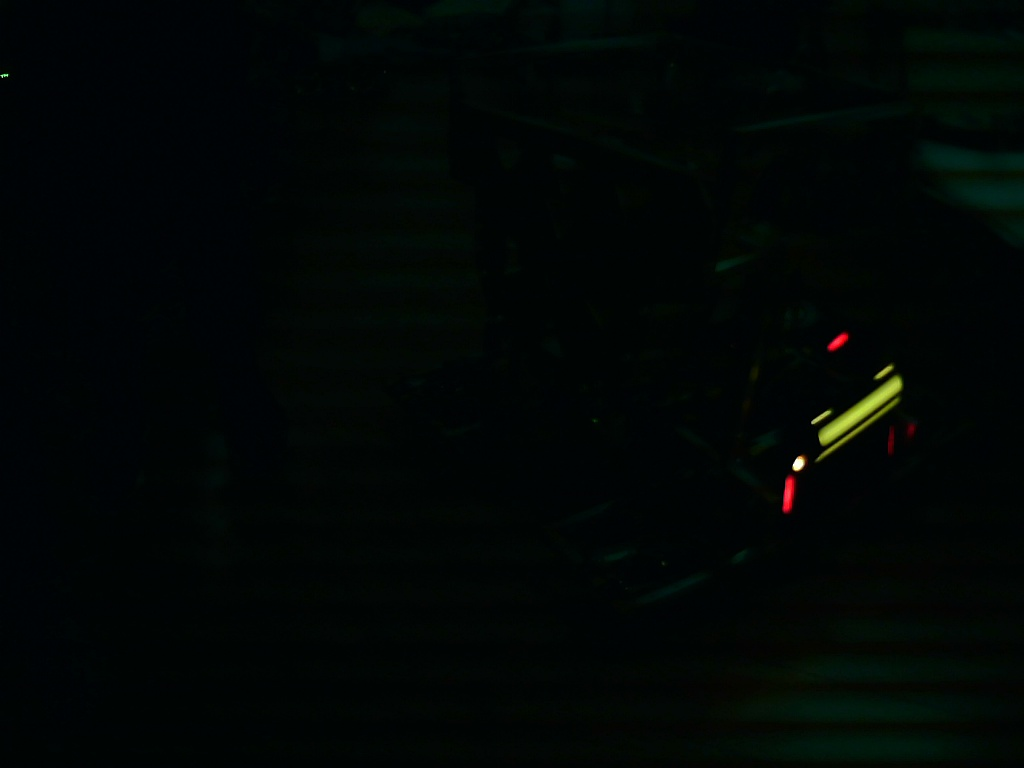lamp: (778, 476, 799, 516)
